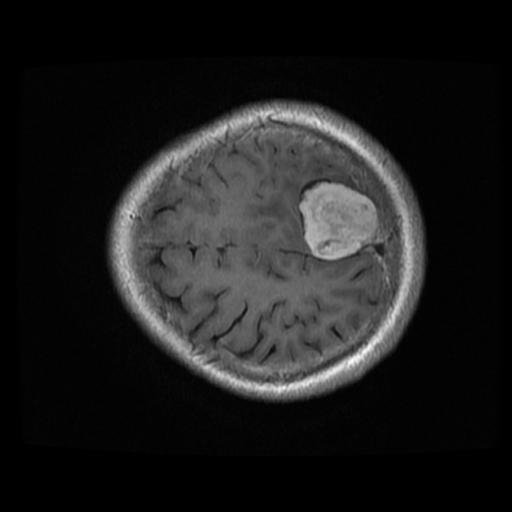meningioma: (297, 180, 379, 260)
